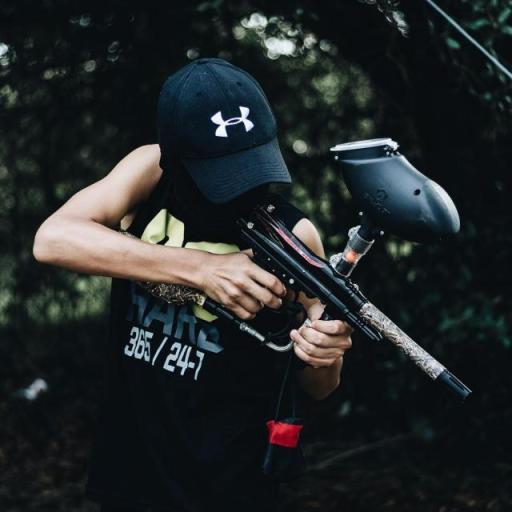Under Armour: (208, 104, 256, 138)
